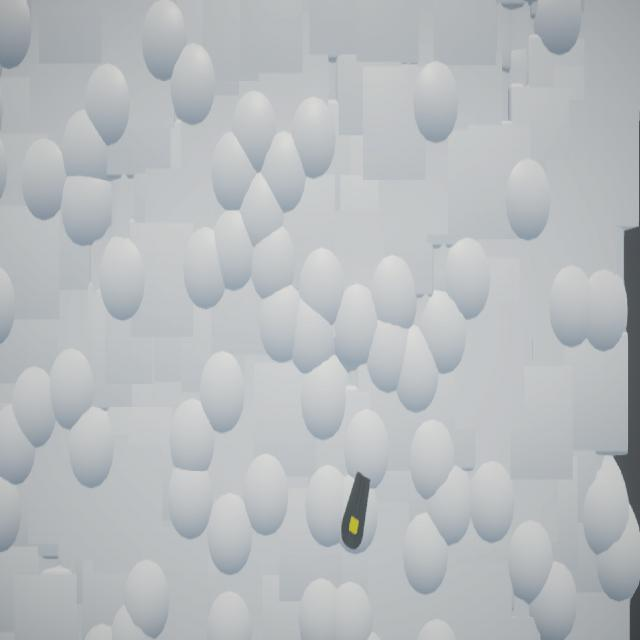handle_folk: (343, 472, 372, 550)
